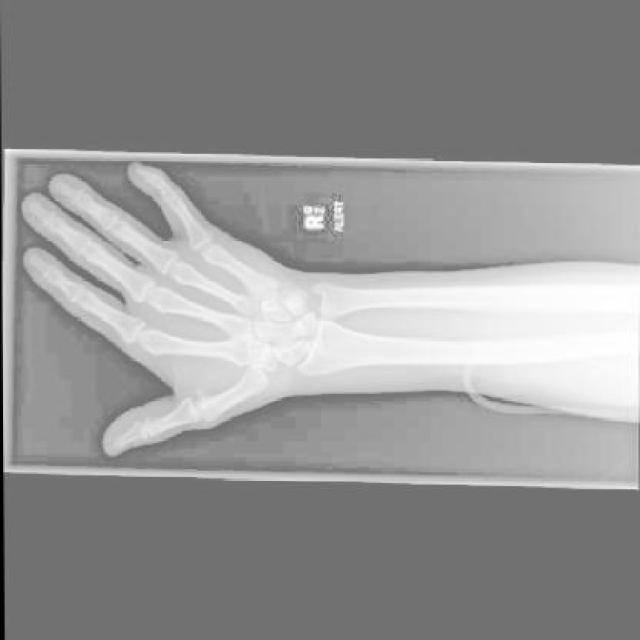Fracture: (286, 293, 308, 313)
